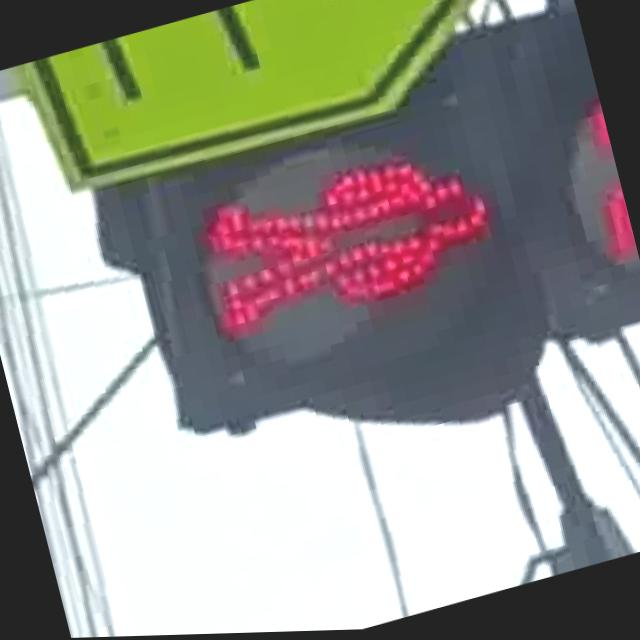red_light: (179, 119, 534, 366)
